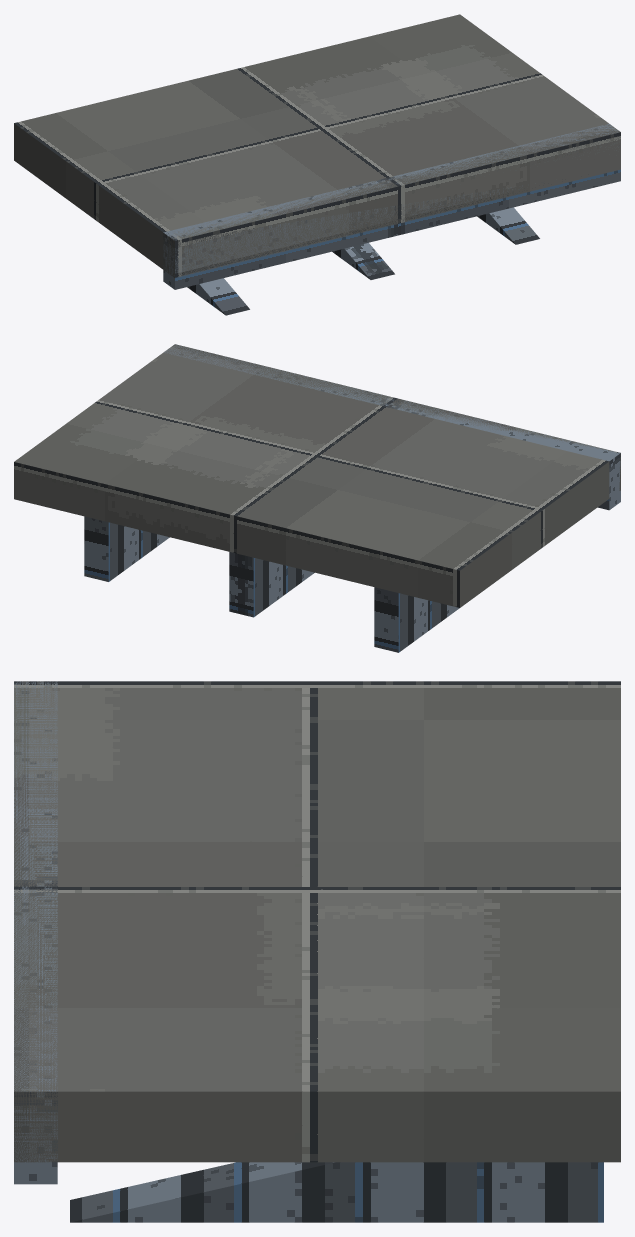
File: arch_ledge.glb
3 renders of one model, top to bottom at view 1: azimuth 30°, elevation 25°; view 2: azimuth 150°, elevation 25°; view 3: azimuth 270°, elevation 25°, orthographic. The views are drawn at different scales.
Visible parts, largest first — view 1: arch_ledge; view 2: arch_ledge; view 3: arch_ledge.
Part boxes in pixels (x1,y1,x2,y2): arch_ledge: (14, 14, 620, 315); arch_ledge: (14, 344, 620, 652); arch_ledge: (14, 681, 620, 1222).
Size of the model in its own units: 4 by 0.87 by 2.5.
5 materials, 5 textured.
